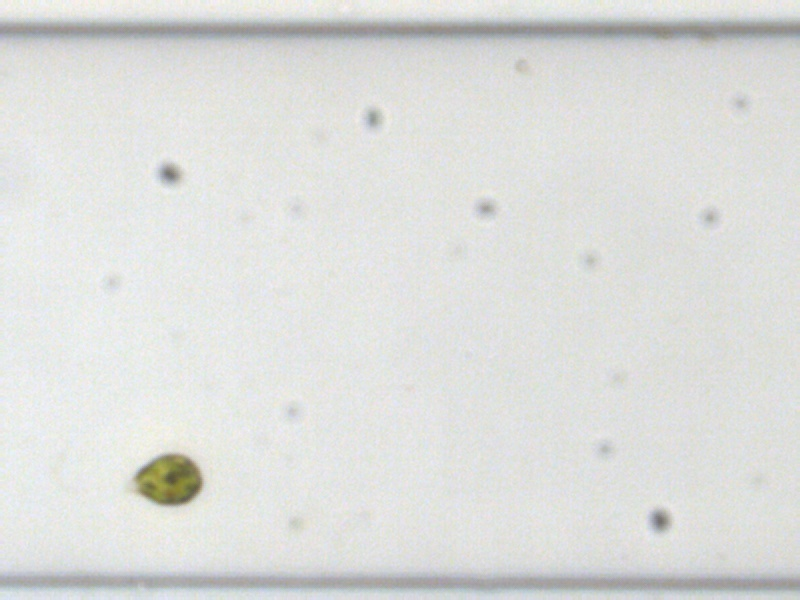Haematococcus: (130, 450, 204, 505)
